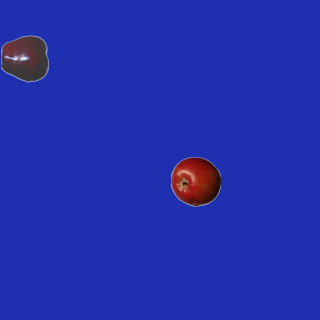Apple Braeburn: (170, 156, 220, 206)
Apple Red Delicious: (0, 33, 50, 83)
